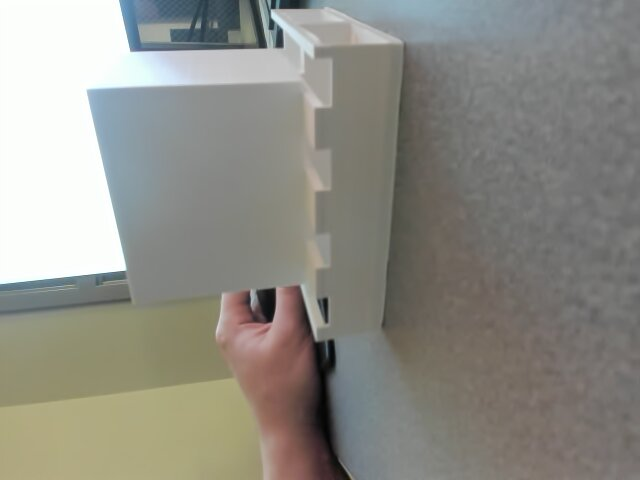white pallet: (82, 6, 421, 345)
